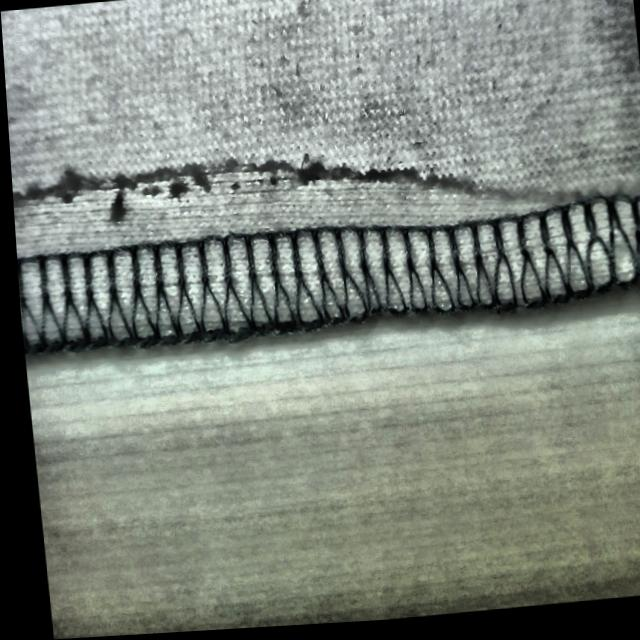seam: (7, 117, 575, 362)
